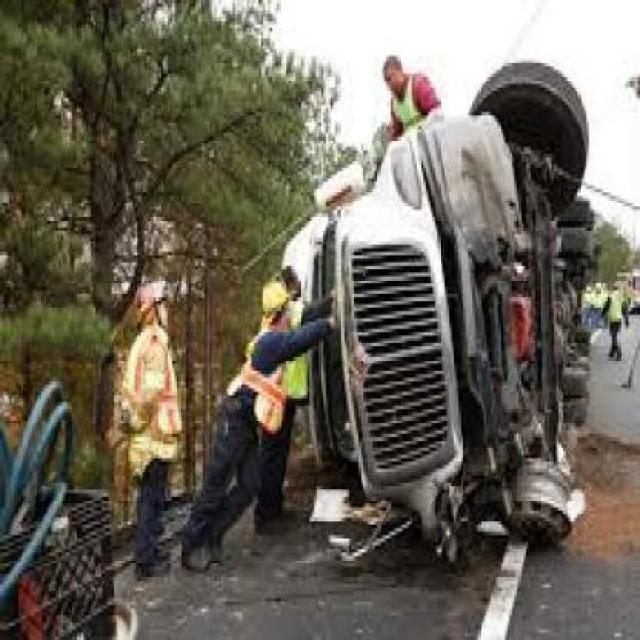accident: (209, 44, 605, 585)
